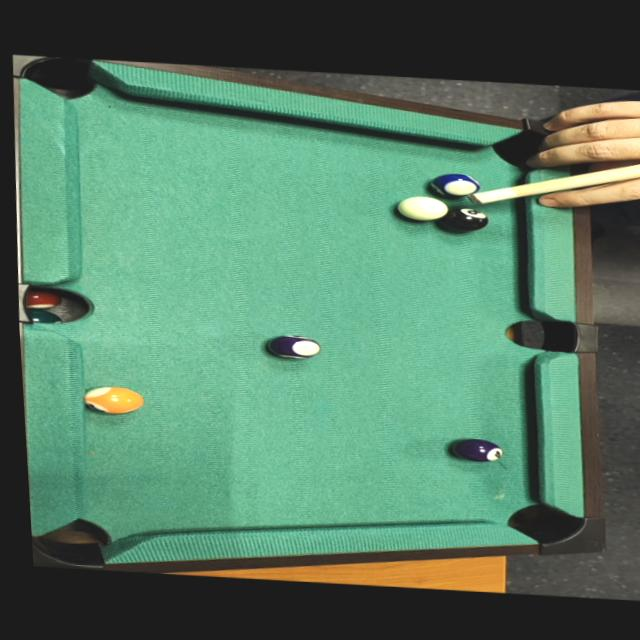cue ball: (392, 190, 455, 222)
other: (77, 383, 150, 417), (429, 201, 493, 233), (442, 436, 512, 465), (262, 330, 324, 362), (427, 168, 486, 197)
